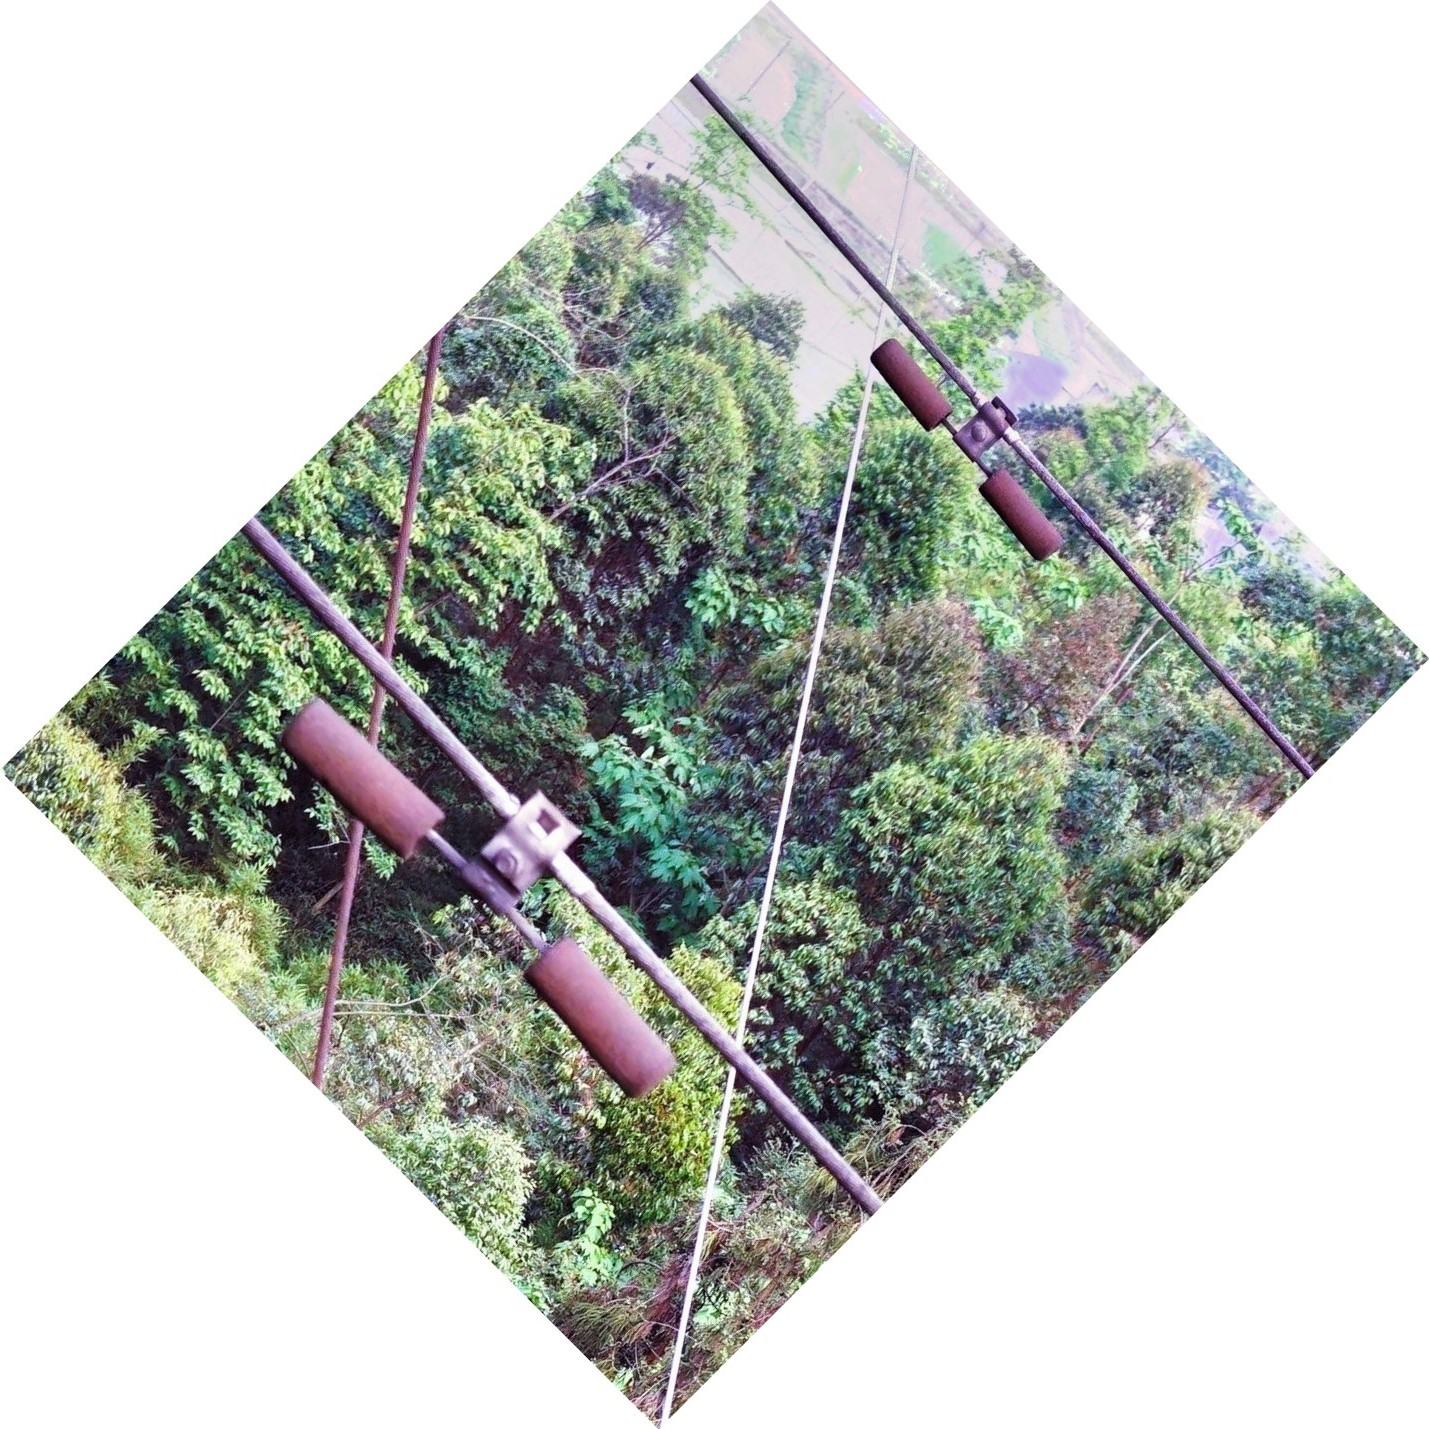Shockproof hammer: (273, 656, 690, 1116), (864, 313, 1077, 565)
